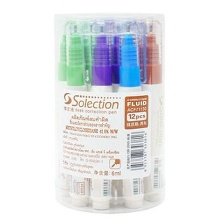book: (51, 11, 169, 216)
correction_fluid: (116, 19, 149, 210), (135, 15, 165, 202), (88, 15, 116, 210), (63, 18, 91, 207)
